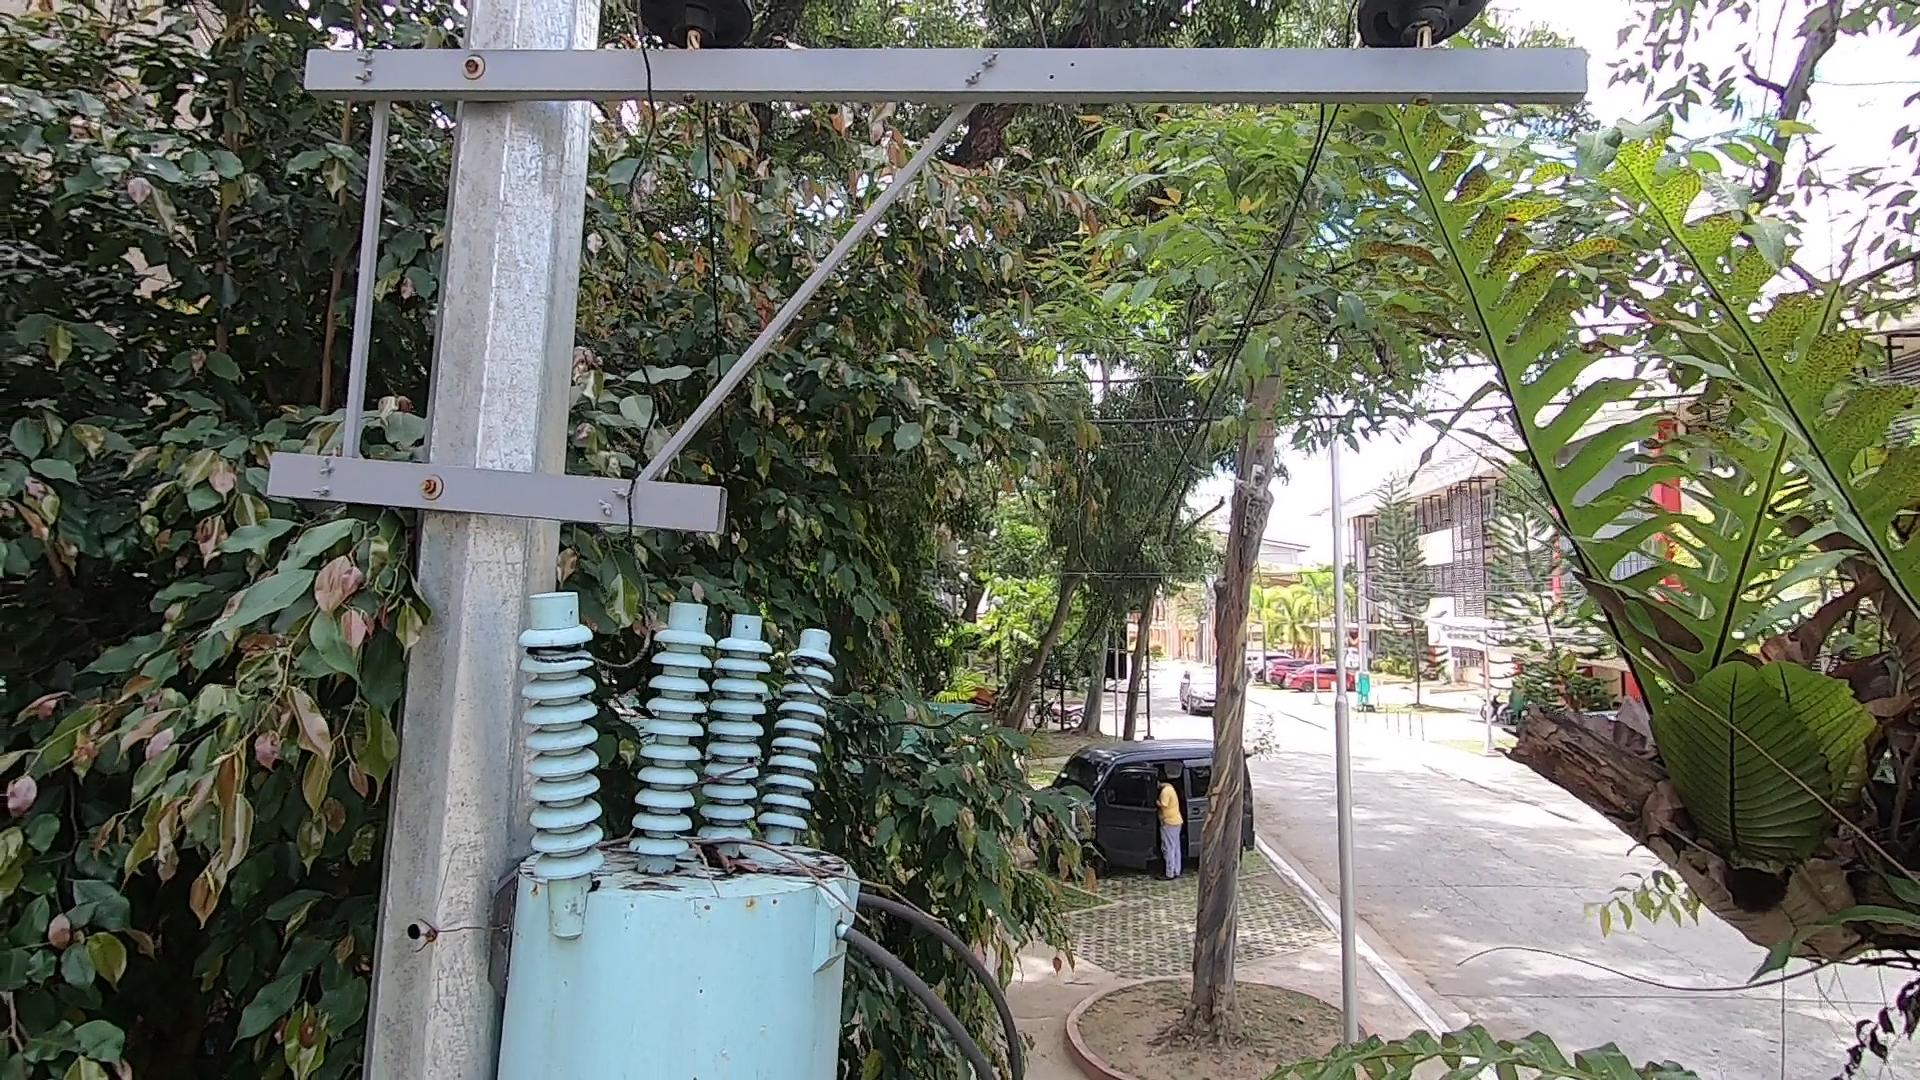leaf: (674, 832, 770, 894)
tree branch: (585, 818, 960, 955)
